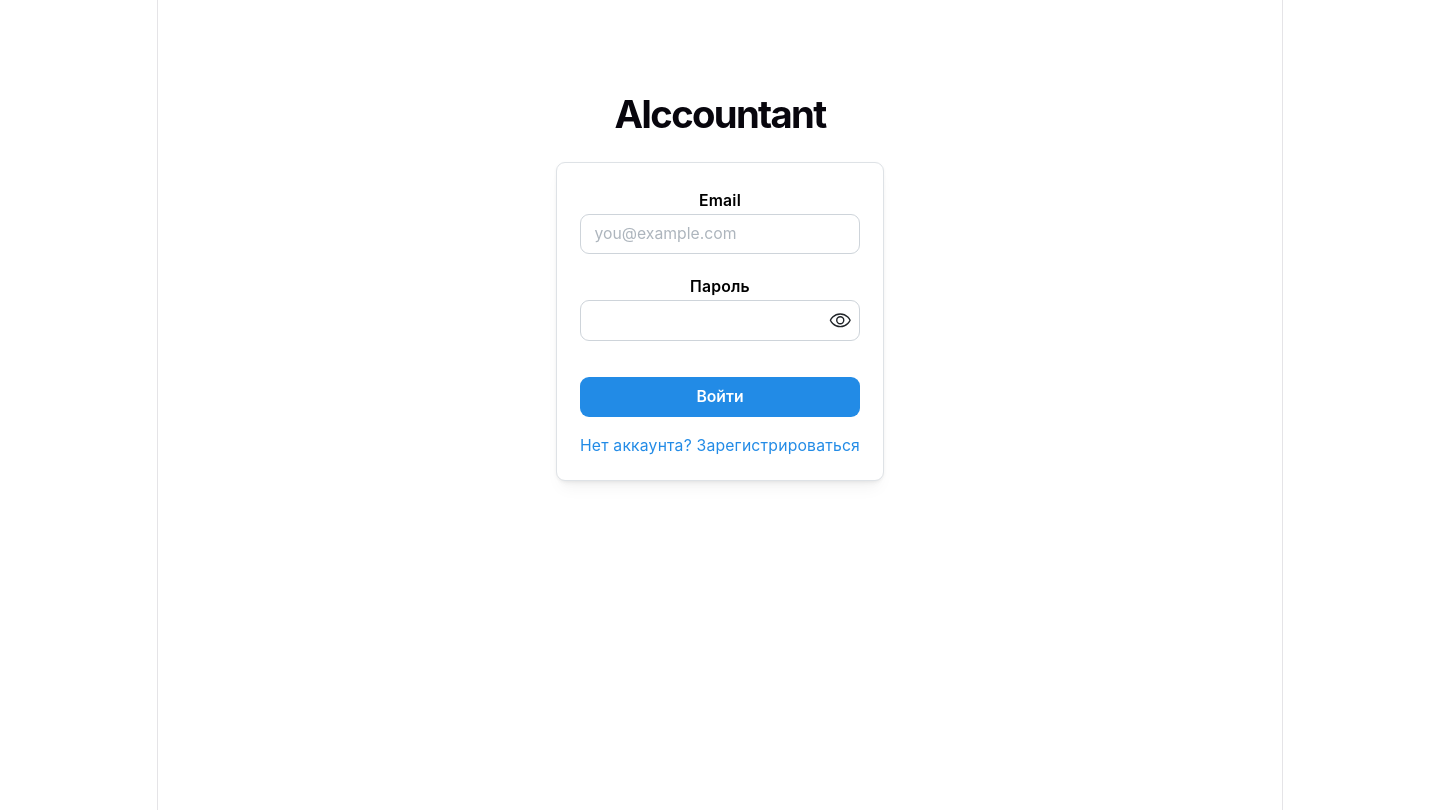
Test: показывает ошибки валидации при пустой отправке
Click the button "Войти" at (720, 397), box x1=580 y1=376 x2=860 y2=417
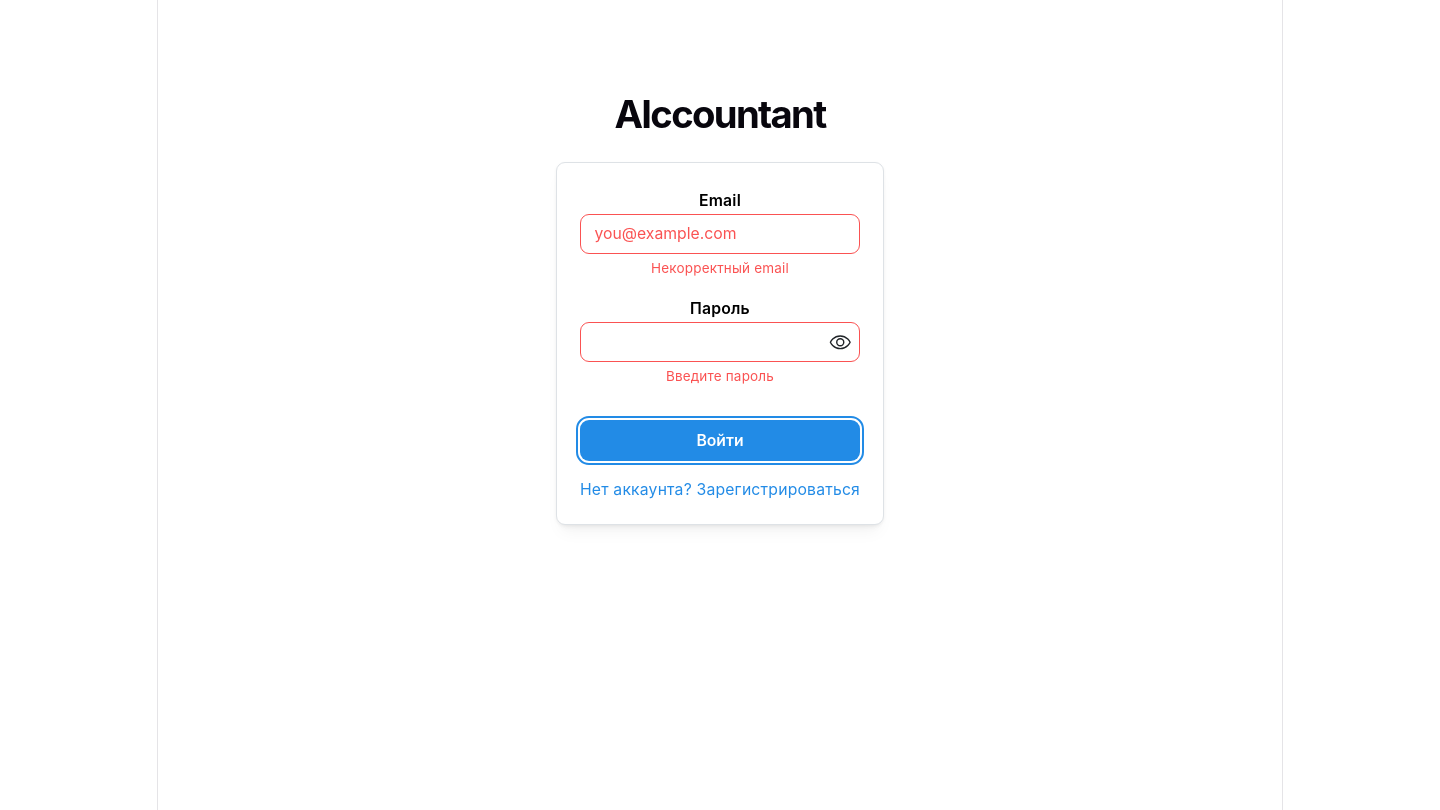
Result: the text "Некорректный email" is shown at x1=651 y1=260 x2=789 y2=276
Result: the text "Введите пароль" is shown at x1=666 y1=368 x2=774 y2=384
